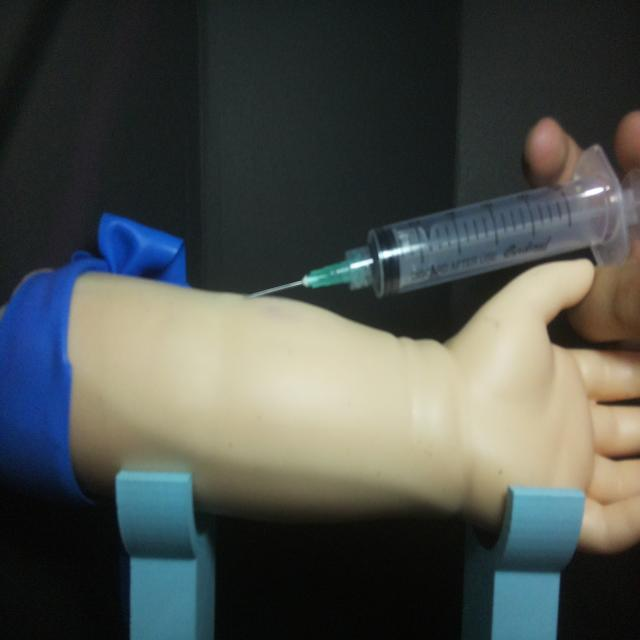20deg: (241, 143, 636, 306)
